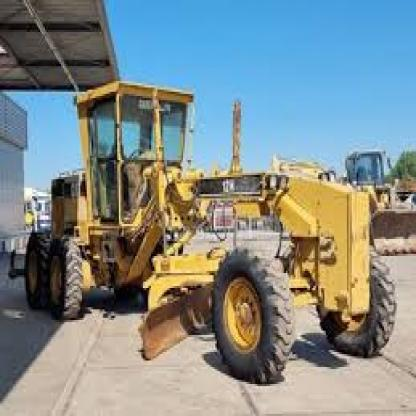bull_dozer/loader/grader: (10, 81, 403, 388)
